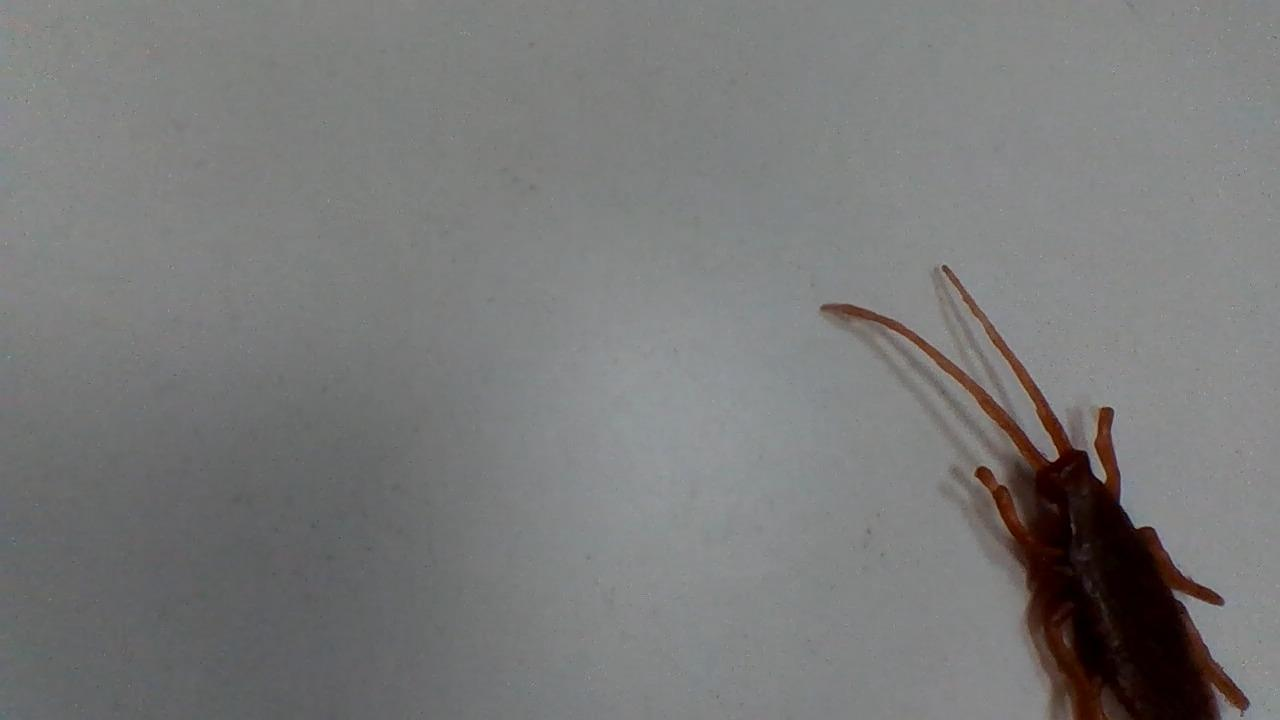cockroach: (815, 260, 1249, 720)
